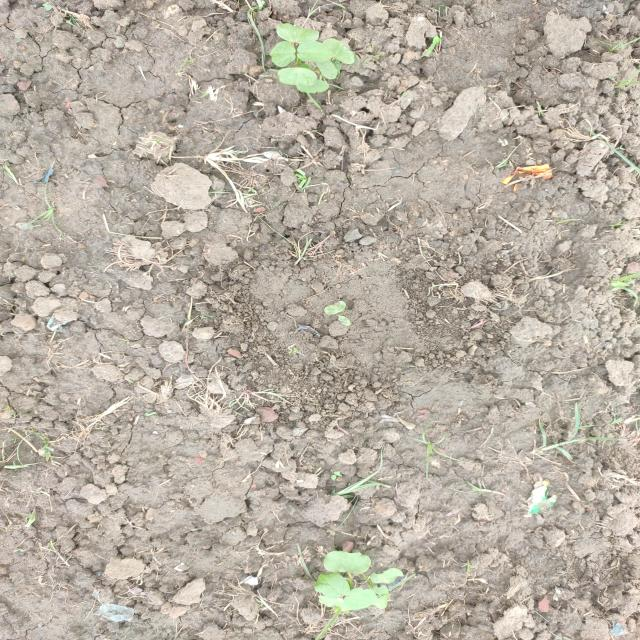seedling_s4: (324, 551, 371, 573), (314, 573, 351, 599), (322, 38, 356, 64), (276, 23, 320, 43), (340, 588, 377, 611), (297, 40, 335, 62), (277, 67, 317, 85), (269, 41, 295, 67), (370, 568, 404, 584), (296, 79, 329, 94), (315, 59, 338, 80), (373, 585, 388, 609), (324, 301, 346, 314), (317, 596, 343, 607)
